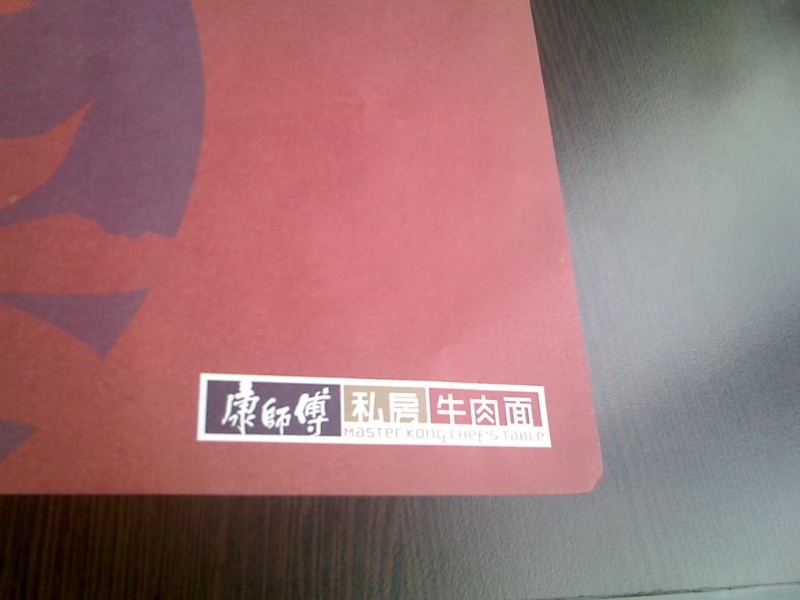text: (225, 377, 240, 437), (241, 377, 256, 437), (257, 377, 272, 437), (273, 377, 288, 437), (289, 377, 304, 437), (305, 377, 320, 437), (321, 377, 333, 437), (353, 390, 368, 426), (369, 390, 384, 426), (385, 390, 400, 426), (401, 390, 416, 426), (449, 393, 464, 429), (465, 393, 480, 429), (481, 393, 496, 429), (497, 393, 512, 429), (513, 393, 528, 429), (436, 393, 448, 429), (529, 393, 538, 429), (353, 424, 368, 440), (369, 424, 384, 440), (385, 424, 400, 440), (417, 428, 432, 444), (465, 429, 480, 445), (481, 429, 496, 445), (433, 428, 447, 444), (513, 430, 528, 444), (529, 430, 544, 444), (451, 429, 464, 445), (417, 390, 422, 426), (406, 428, 416, 444), (343, 424, 352, 440), (503, 430, 512, 444), (223, 377, 224, 437), (351, 390, 352, 426), (401, 424, 402, 440), (497, 429, 498, 445)
